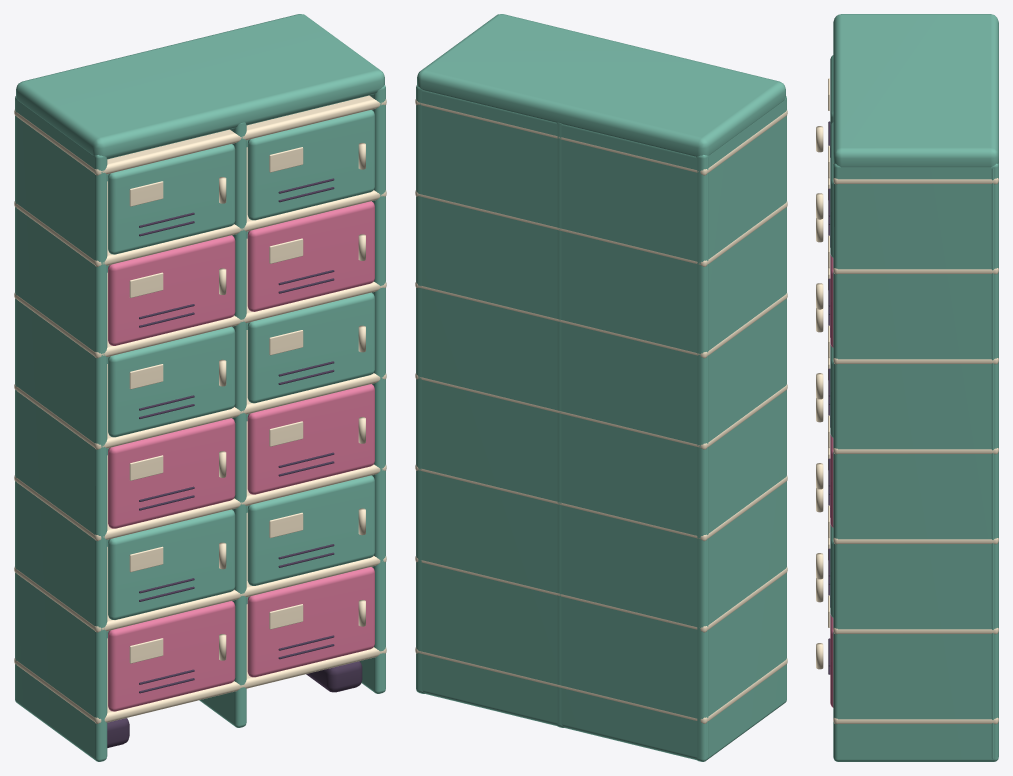
File: 12_slot_locker.fbx
3 renders of one model, left to right at view 1: azimuth 30°, elevation 25°; view 2: azimuth 150°, elevation 25°; view 3: azimuth 270°, elevation 25°, orthographic.
Parts seen in each view (by area): view 1: Toon_12_slot_locker Locker upright.003, Toon_12_slot_locker Rounded locker crown.001, Toon_12_slot_locker_DOOR_1_ Compartment door.001, Toon_12_slot_locker_DOOR_11_ Compartment door.001, Toon_12_slot_locker_DOOR_10_ Compartment door.001, Toon_12_slot_locker_DOOR_5_ Compartment door.001, Toon_12_slot_locker_DOOR_6_ Compartment door.001, Toon_12_slot_locker_DOOR_4_ Compartment door.001, Toon_12_slot_locker_DOOR_7_ Compartment door.001, Toon_12_slot_locker_DOOR_9_ Compartment door.001, Toon_12_slot_locker_DOOR_8_ Compartment door.001, Toon_12_slot_locker_DOOR_12_ Compartment door.001 (+25 smaller); view 2: Toon_12_slot_locker Locker rear.001, Toon_12_slot_locker Locker upright.003, Toon_12_slot_locker Rounded locker crown.001, Toon_12_slot_locker Locker upright.005, Toon_12_slot_locker Locker upright.004, Toon_12_slot_locker Compartment shelf.010, Toon_12_slot_locker Compartment shelf.011, Toon_12_slot_locker Compartment shelf.012, Toon_12_slot_locker Compartment shelf.007, Toon_12_slot_locker Compartment shelf.009, Toon_12_slot_locker Compartment shelf.013, Toon_12_slot_locker Compartment shelf.008; view 3: Toon_12_slot_locker Locker upright.005, Toon_12_slot_locker Rounded locker crown.001, Toon_12_slot_locker Locker rear.001, Toon_12_slot_locker Compartment shelf.013, Toon_12_slot_locker Compartment shelf.010, Toon_12_slot_locker Compartment shelf.011, Toon_12_slot_locker Compartment shelf.012, Toon_12_slot_locker Compartment shelf.007, Toon_12_slot_locker Compartment shelf.008, Toon_12_slot_locker Compartment shelf.009, Toon_12_slot_locker_DOOR_12_ Compartment door.001, Toon_12_slot_locker_DOOR_10_ Compartment door.001 (+4 smaller).
Part boxes in pixels (x1,y1,x2,y2): Toon_12_slot_locker Locker upright.003: (15,96,107,761); Toon_12_slot_locker Rounded locker crown.001: (16,14,384,159); Toon_12_slot_locker_DOOR_1_ Compartment door.001: (108,601,235,711); Toon_12_slot_locker_DOOR_11_ Compartment door.001: (108,144,235,254); Toon_12_slot_locker_DOOR_10_ Compartment door.001: (247,201,374,311); Toon_12_slot_locker_DOOR_5_ Compartment door.001: (108,418,235,528); Toon_12_slot_locker_DOOR_6_ Compartment door.001: (247,384,374,494); Toon_12_slot_locker_DOOR_4_ Compartment door.001: (247,475,374,585); Toon_12_slot_locker_DOOR_7_ Compartment door.001: (108,326,235,437); Toon_12_slot_locker_DOOR_9_ Compartment door.001: (108,235,235,345); Toon_12_slot_locker_DOOR_8_ Compartment door.001: (247,292,374,403); Toon_12_slot_locker_DOOR_12_ Compartment door.001: (247,110,374,220); Toon_12_slot_locker Locker rear.001: (421,90,708,759); Toon_12_slot_locker Locker upright.003: (696,96,786,761); Toon_12_slot_locker Rounded locker crown.001: (417,14,785,156); Toon_12_slot_locker Locker upright.005: (416,85,424,693); Toon_12_slot_locker Locker upright.004: (556,122,564,727); Toon_12_slot_locker Compartment shelf.010: (415,373,787,449); Toon_12_slot_locker Compartment shelf.011: (415,282,787,358); Toon_12_slot_locker Compartment shelf.012: (415,190,787,266); Toon_12_slot_locker Compartment shelf.007: (415,647,787,723); Toon_12_slot_locker Compartment shelf.009: (415,465,787,541); Toon_12_slot_locker Compartment shelf.013: (415,99,787,175); Toon_12_slot_locker Compartment shelf.008: (415,556,787,632); Toon_12_slot_locker Locker upright.005: (833,163,998,761); Toon_12_slot_locker Rounded locker crown.001: (833,14,998,167); Toon_12_slot_locker Locker rear.001: (991,163,998,758); Toon_12_slot_locker Compartment shelf.013: (833,163,998,184); Toon_12_slot_locker Compartment shelf.010: (833,448,998,454); Toon_12_slot_locker Compartment shelf.011: (833,358,998,364); Toon_12_slot_locker Compartment shelf.012: (833,268,998,274); Toon_12_slot_locker Compartment shelf.007: (833,717,998,724); Toon_12_slot_locker Compartment shelf.008: (833,628,998,634); Toon_12_slot_locker Compartment shelf.009: (833,538,998,544); Toon_12_slot_locker_DOOR_12_ Compartment door.001: (830,122,833,257); Toon_12_slot_locker_DOOR_10_ Compartment door.001: (830,254,833,347).
Size of the model in its own units: 100 by 204 by 55.2.
